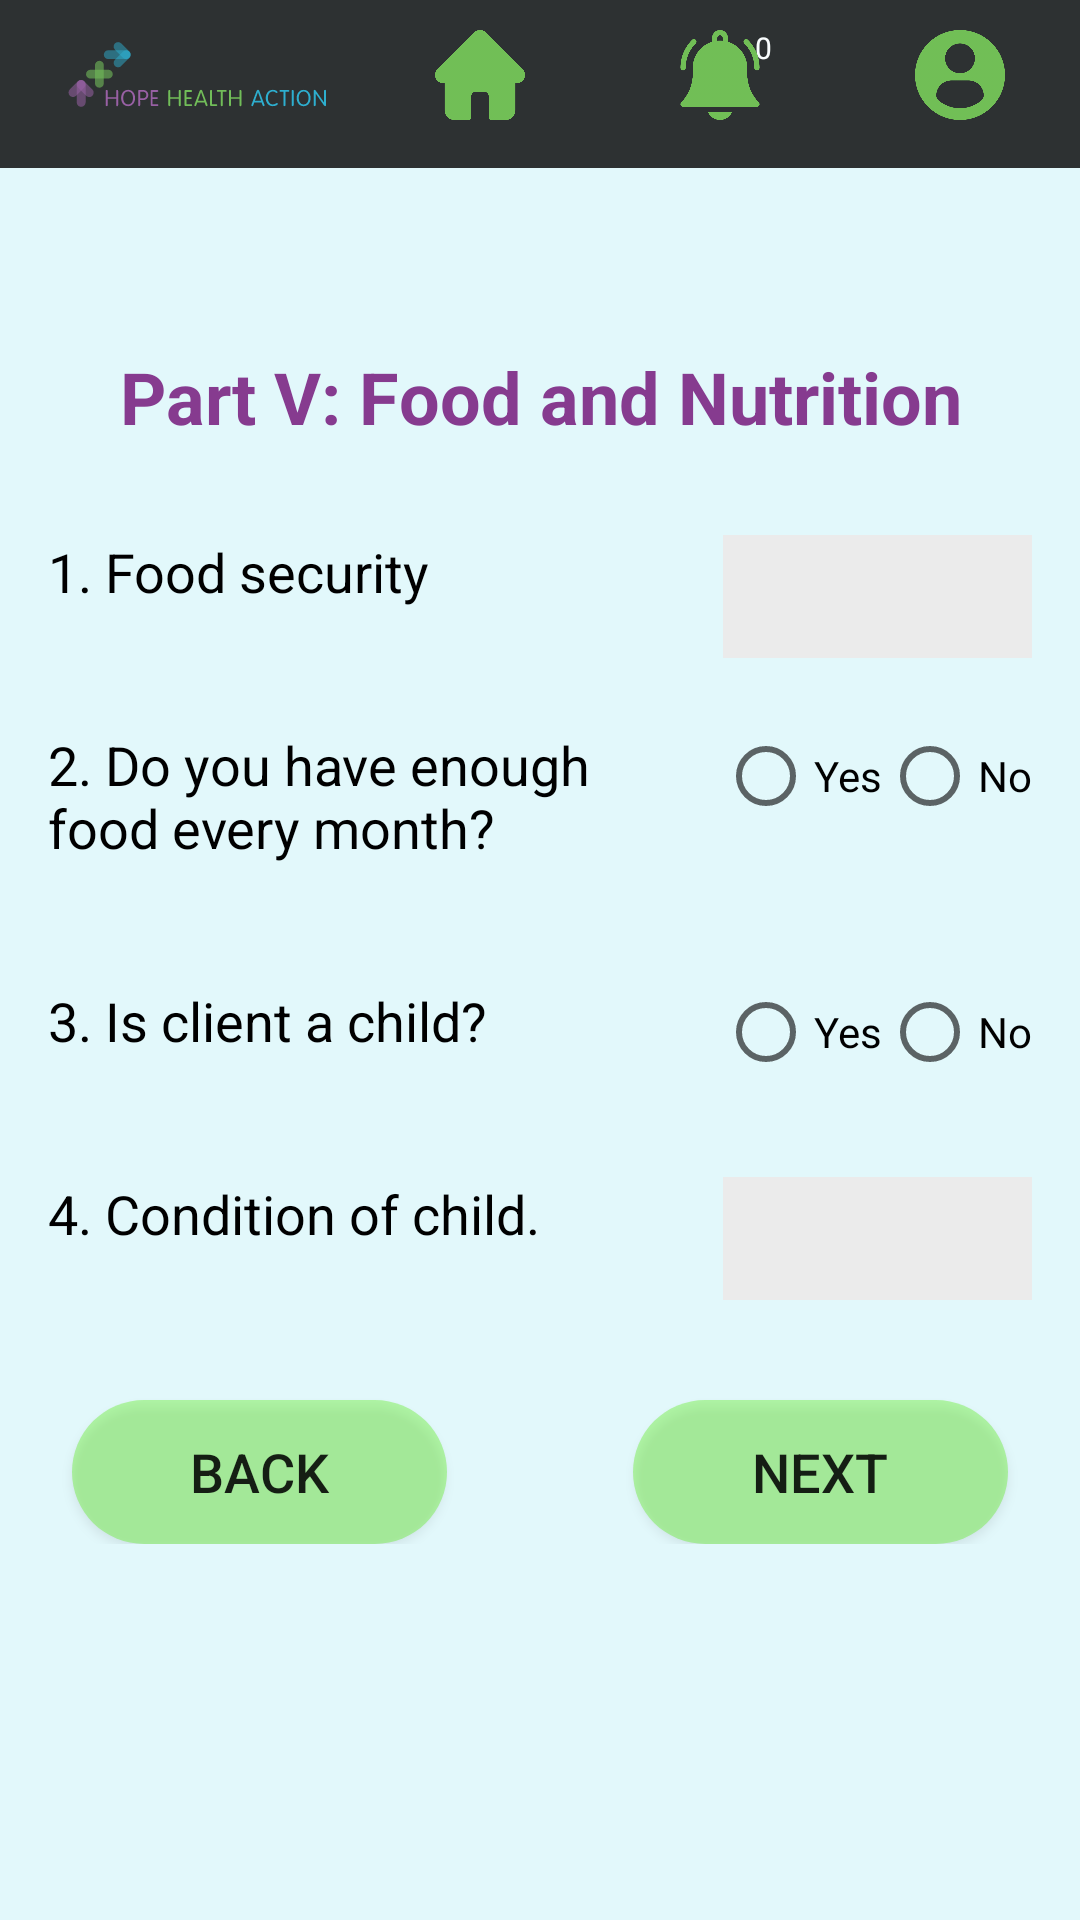

Locate icon controls on the screen. Image size 1080*1920, boxes as (x1, y1, x2, y2).
bell: (680, 30, 771, 120)
home: (435, 30, 525, 120)
profile taskbar: (915, 30, 1005, 120)
